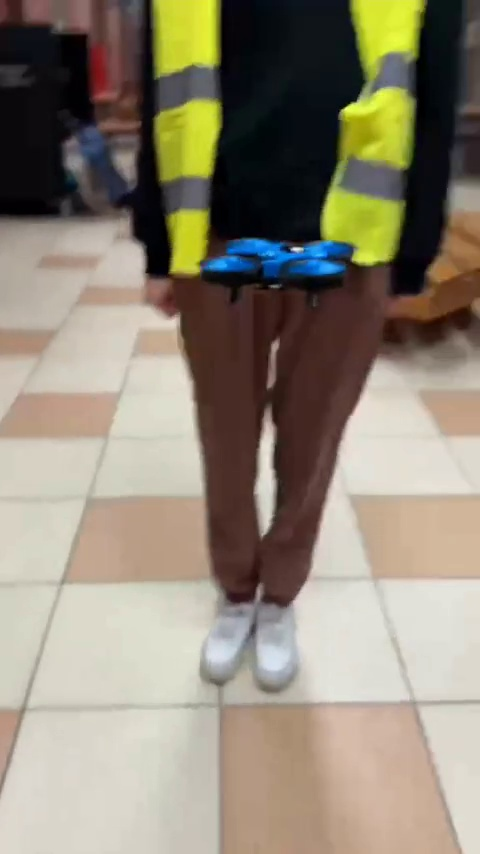drone: (197, 231, 352, 303)
vest: (137, 64, 454, 700)
